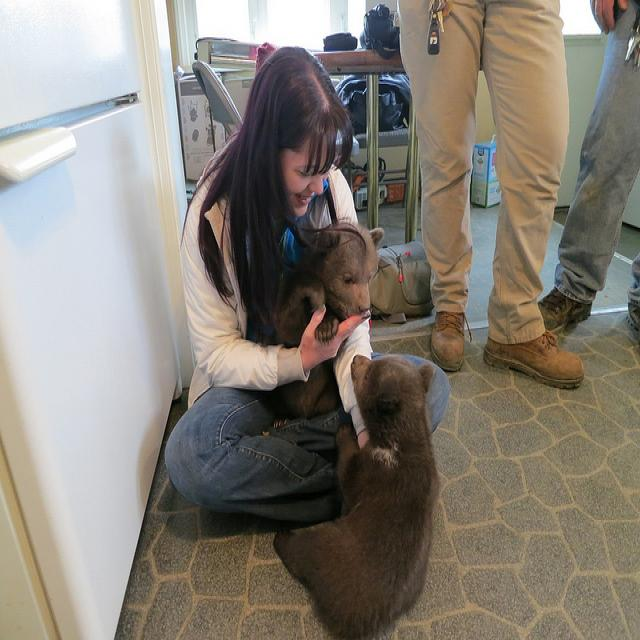Bear: (275, 337, 447, 640), (284, 212, 387, 428)
